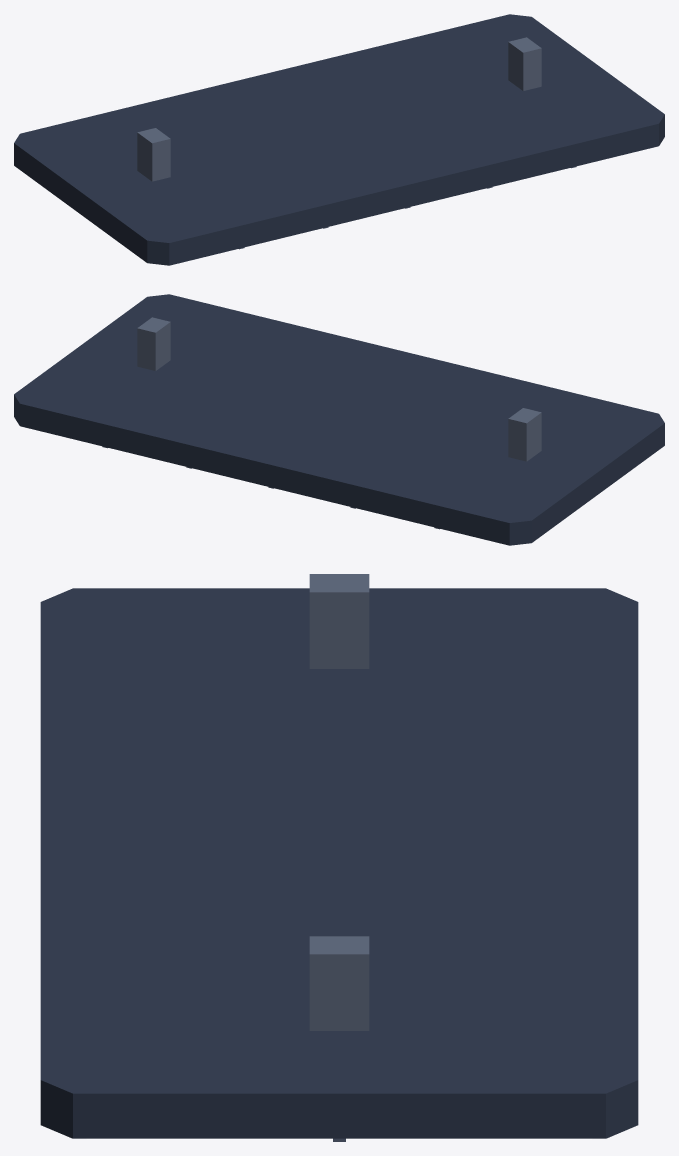
The model's file is off_ceiling_light_panel.glb.
3 views of the same model, one above another, from view 1: azimuth 30°, elevation 25°; view 2: azimuth 150°, elevation 25°; view 3: azimuth 270°, elevation 25° (orthographic). The views are drawn at different scales.
Parts seen in each view (by area): view 1: housing, hanger; view 2: housing, hanger; view 3: housing, hanger, diffuser.
Part boxes in pixels (<box>): housing: <box>14,14,664,265</box>; hanger: <box>137,37,541,181</box>; housing: <box>14,294,664,545</box>; hanger: <box>137,317,541,461</box>; housing: <box>40,588,638,1138</box>; hanger: <box>309,574,369,1030</box>; diffuser: <box>86,1138,592,1139</box>.
Bounding box in the file's own units: 2.4 × 0.3 × 1.2.
